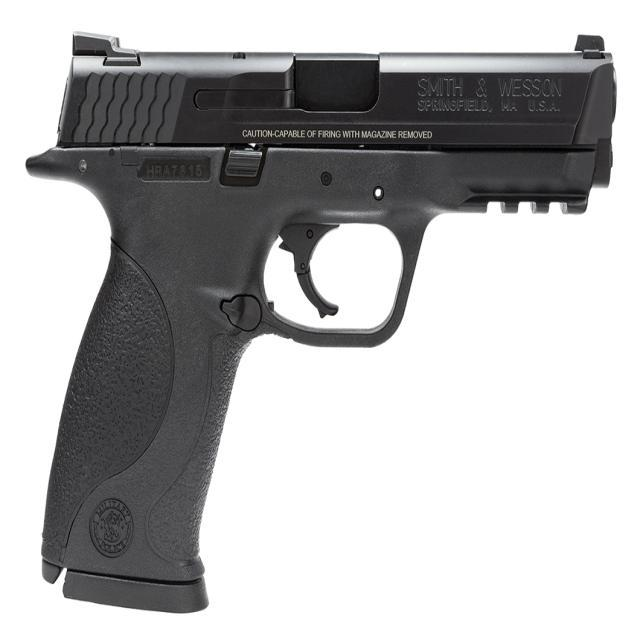Pistol: (14, 15, 640, 633)
